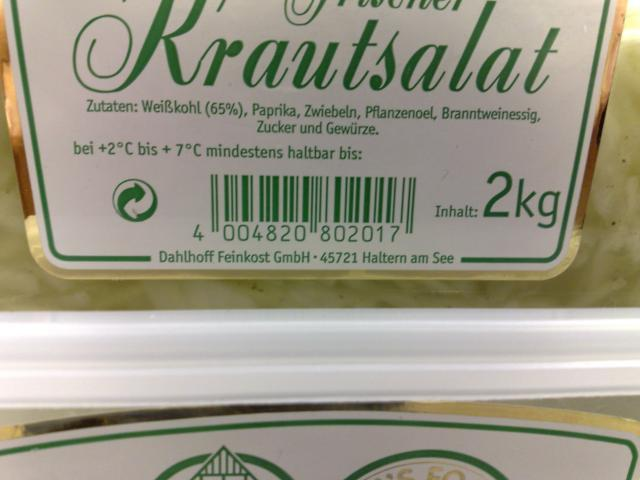Barcode: (176, 162, 429, 249)
